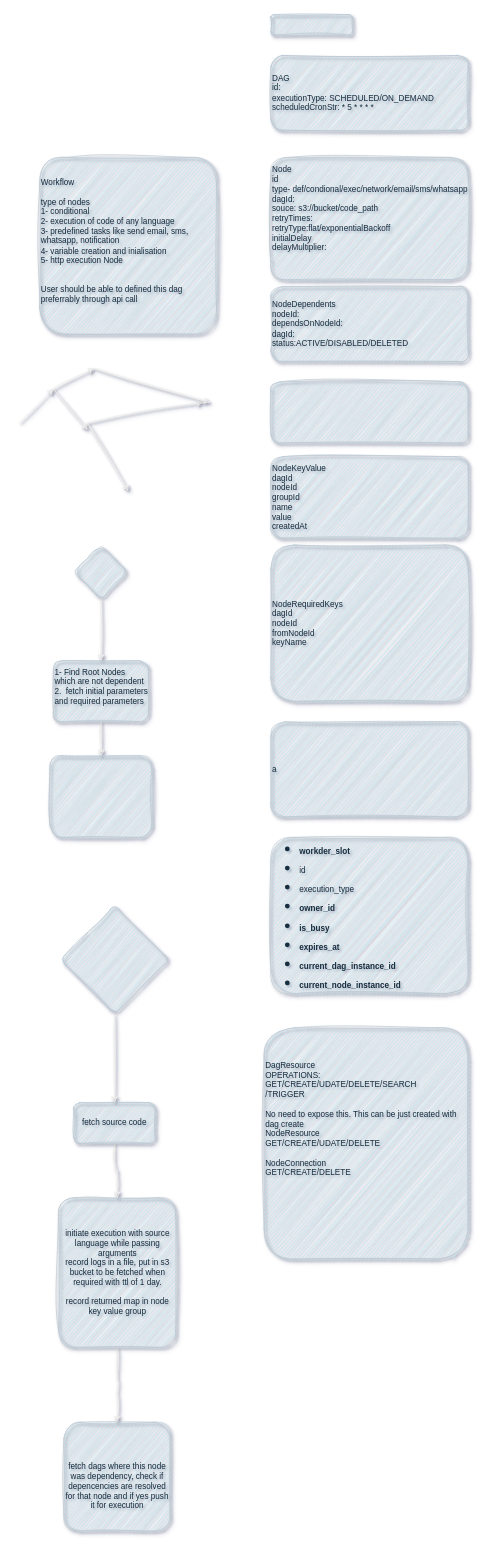
Some shapes in this 488 by 1552 pixel diagram are drawn without their labels. Here are the shapes that lost their labels. From the top down, the centre of each, then its label:
At pixel 312 25: "Entities".
At pixel 370 413: "NodeKeyValueGroup dagId nodeId id".
At pixel 101 573: "DAG trigger".
At pixel 101 797: "3. put in queue for works to pick up and execute Node.".
At pixel 115 960: "Pull message from queue".
